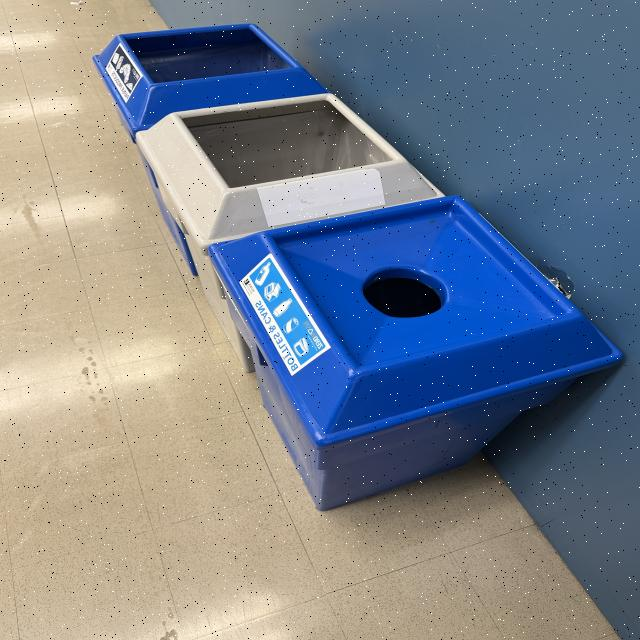Dustbin: (90, 22, 626, 515)
